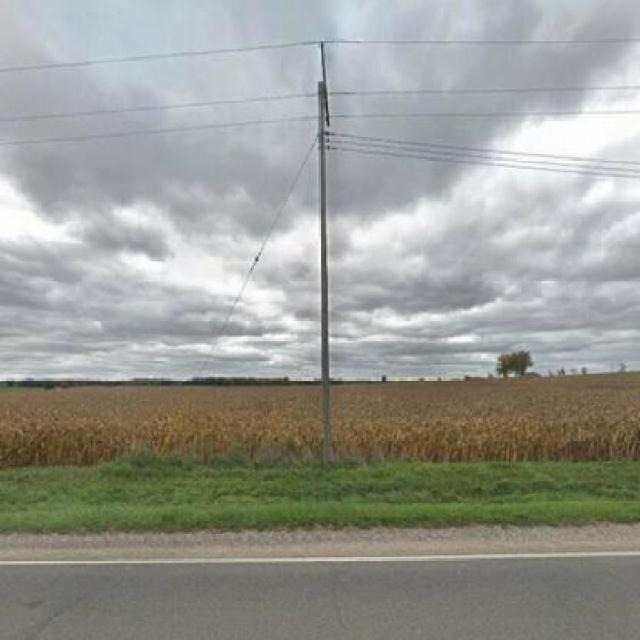pole: (293, 36, 369, 461)
